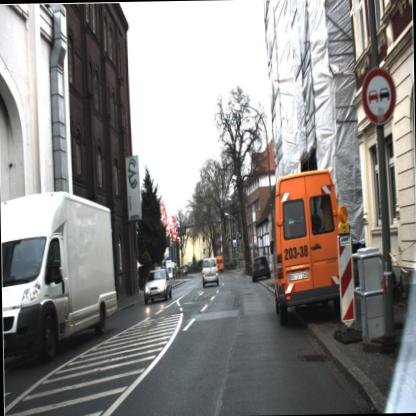prohibitory: (360, 62, 398, 126)
